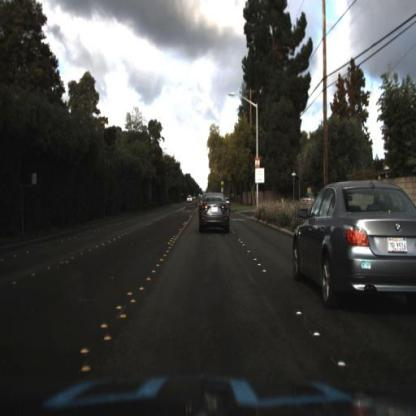car: (293, 174, 413, 308), (196, 190, 233, 237)
